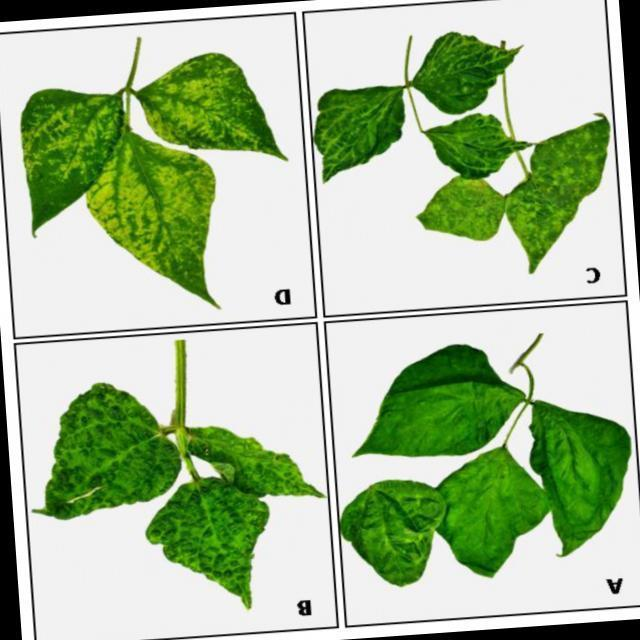Mosaic Virus: (348, 328, 524, 462), (100, 142, 232, 316), (25, 392, 188, 516), (520, 384, 636, 556), (135, 51, 289, 176), (20, 81, 127, 231), (168, 476, 277, 618), (495, 150, 607, 267), (184, 412, 316, 511), (313, 82, 417, 192), (413, 26, 539, 116), (408, 175, 508, 262), (422, 108, 538, 176)
